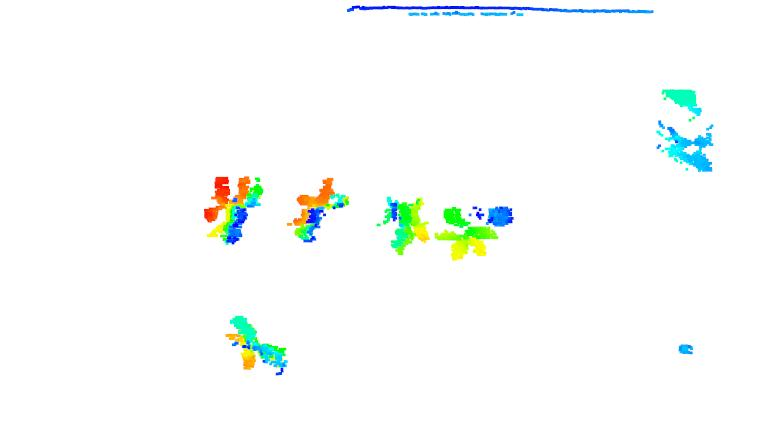chickpea: (197, 173, 267, 245), (435, 203, 512, 260), (225, 313, 289, 372), (292, 176, 349, 241), (379, 194, 433, 254)
